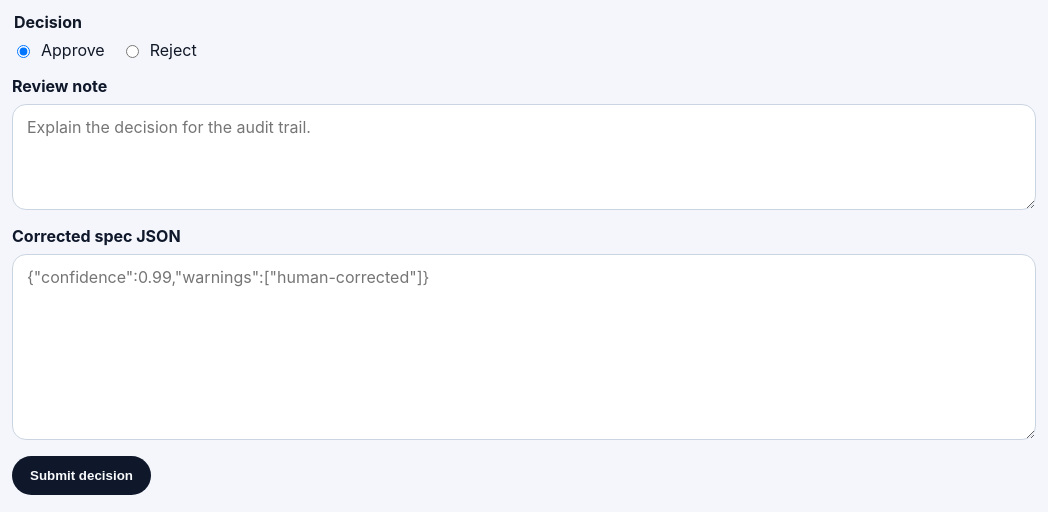
Test: ReviewDecisionForm › shows corrected_spec only while approve is selected
Expected: the text box labelled "Corrected spec JSON" is shown, [12,254,1036,440]
Click the radio button labelled "Reject". click: (132, 52)
box: [126,45,139,58]
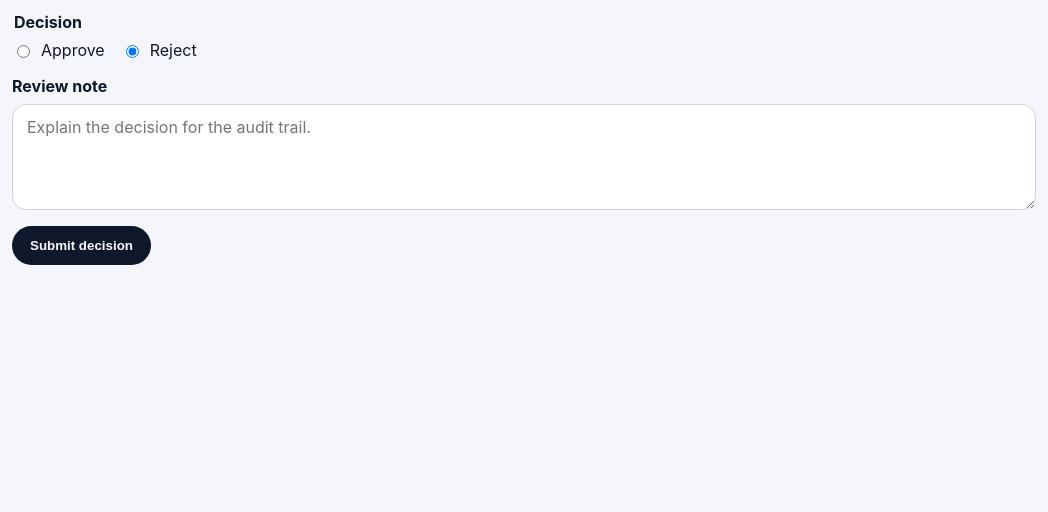
Result: the text labelled "Corrected spec JSON" is gone
Click the radio button labelled "Approve". click: (24, 52)
box: [17,45,30,58]
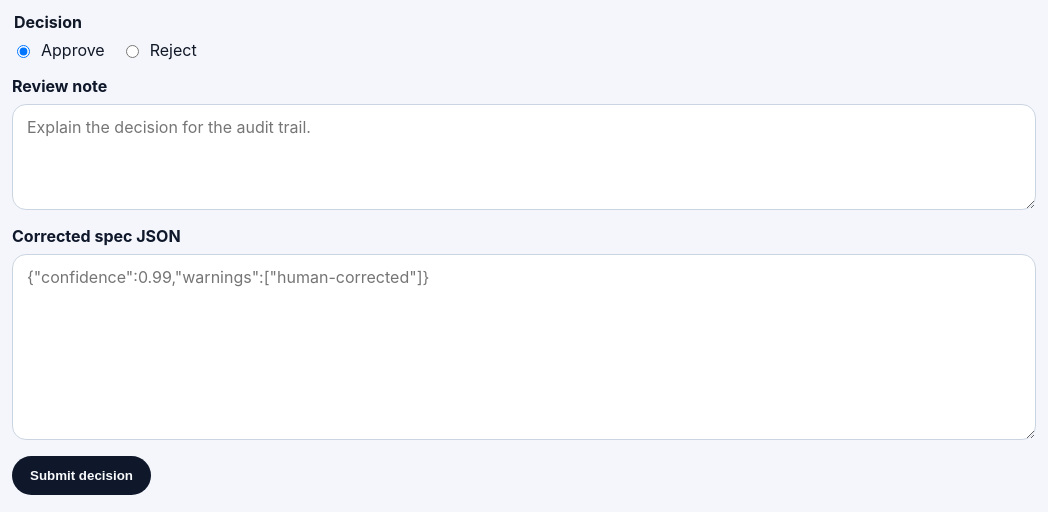
Result: the text box labelled "Corrected spec JSON" is shown at [12,254,1036,440]
